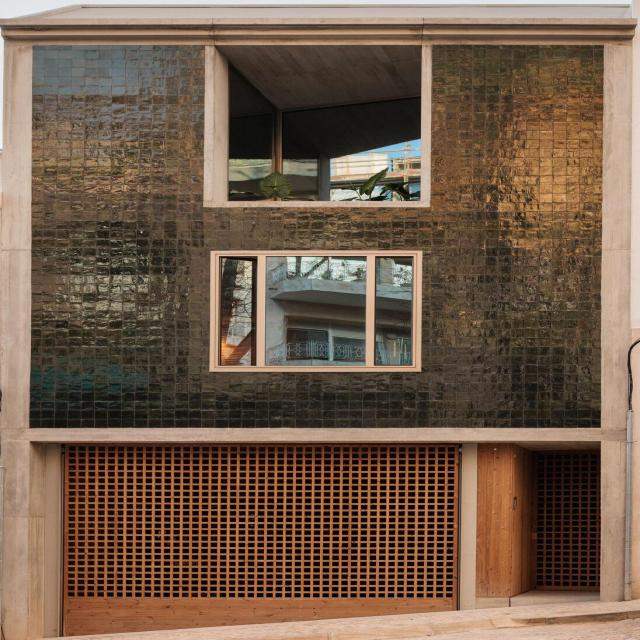door: (536, 449, 600, 591)
window: (228, 59, 423, 202), (215, 253, 421, 372)
